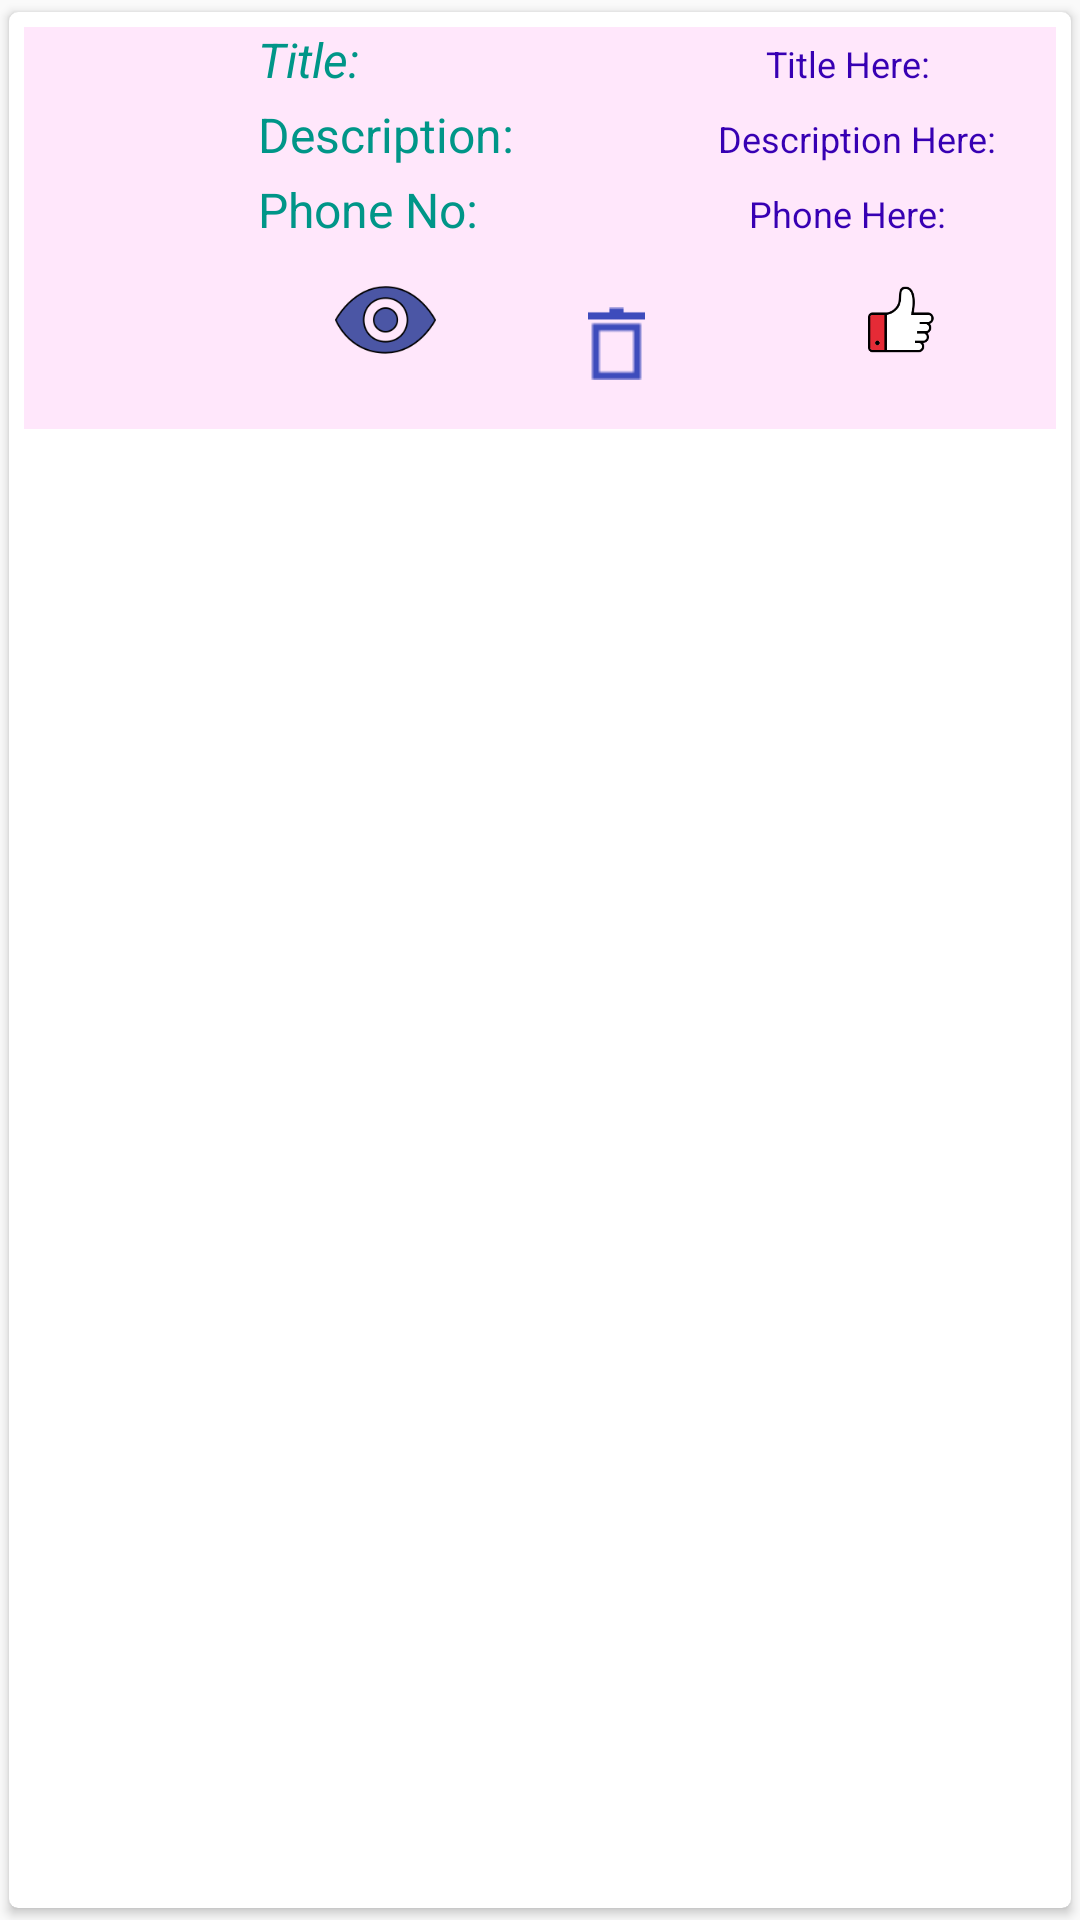

Named icons in this screenshot (1080px×1920px) and their bounding boxes, bbox=[x1, y1, x2, y2]:
delete: bbox=[588, 307, 645, 380]
recomm: bbox=[868, 286, 934, 353]
view: bbox=[335, 286, 436, 354]
